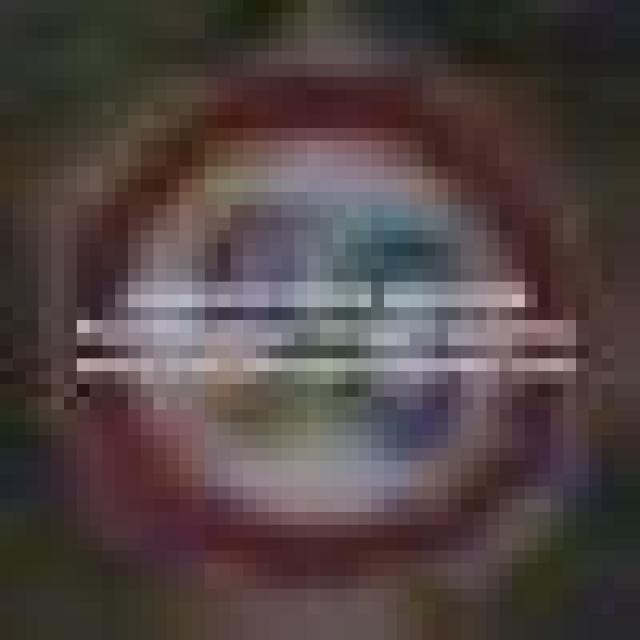speed_limit_30: (38, 64, 576, 550)
